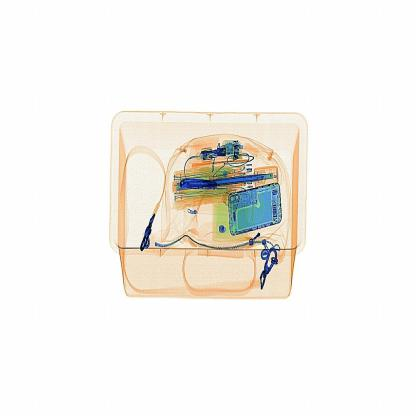knife: (170, 173, 226, 205)
